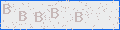B: (75, 12, 83, 22), (51, 8, 59, 18), (35, 12, 43, 22), (19, 11, 27, 21), (3, 4, 11, 14)
